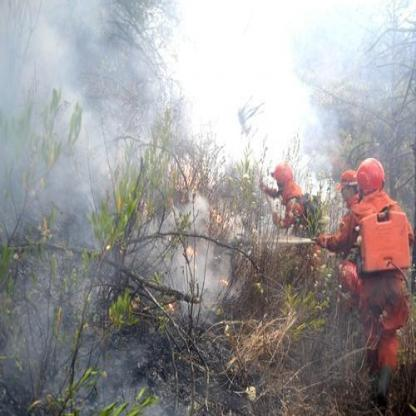fire: (154, 202, 238, 296)
